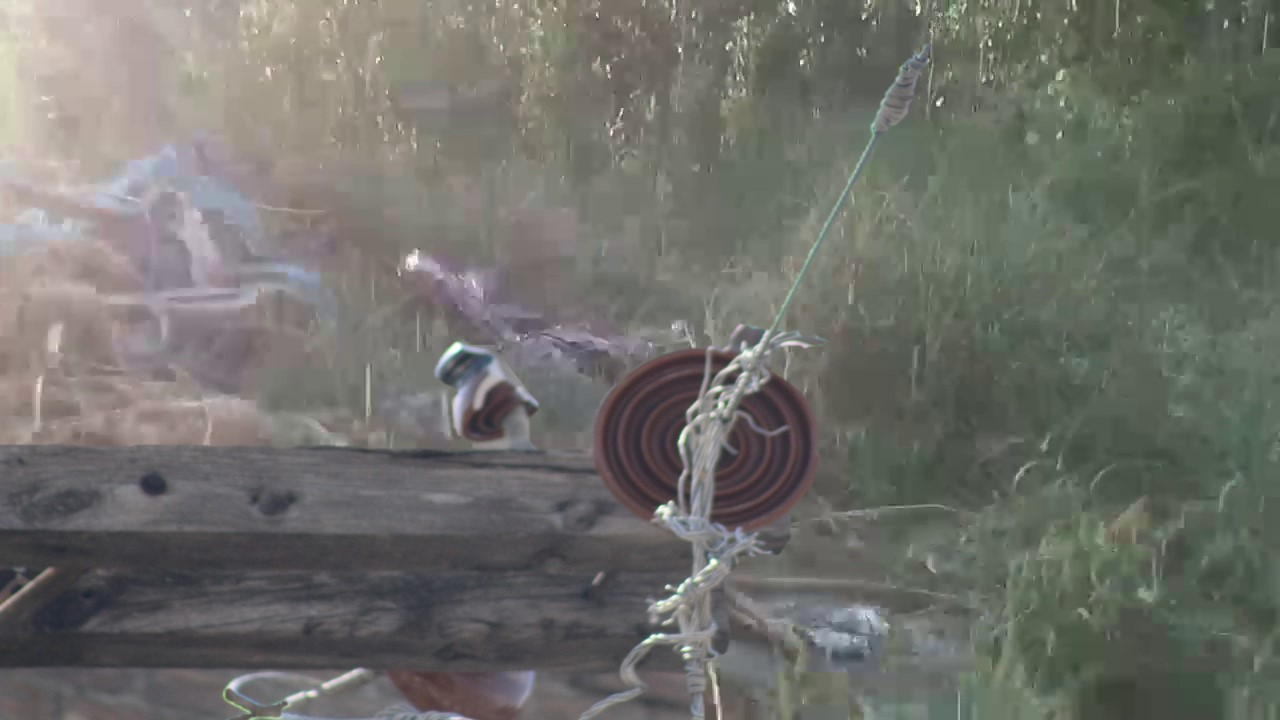defect_pin: (430, 331, 544, 448)
insulator_disc: (590, 341, 826, 543)
